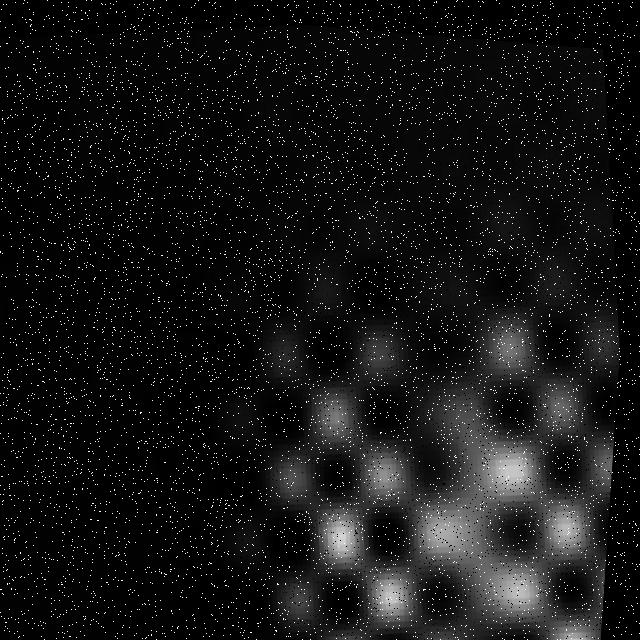person: (204, 166, 633, 640)
